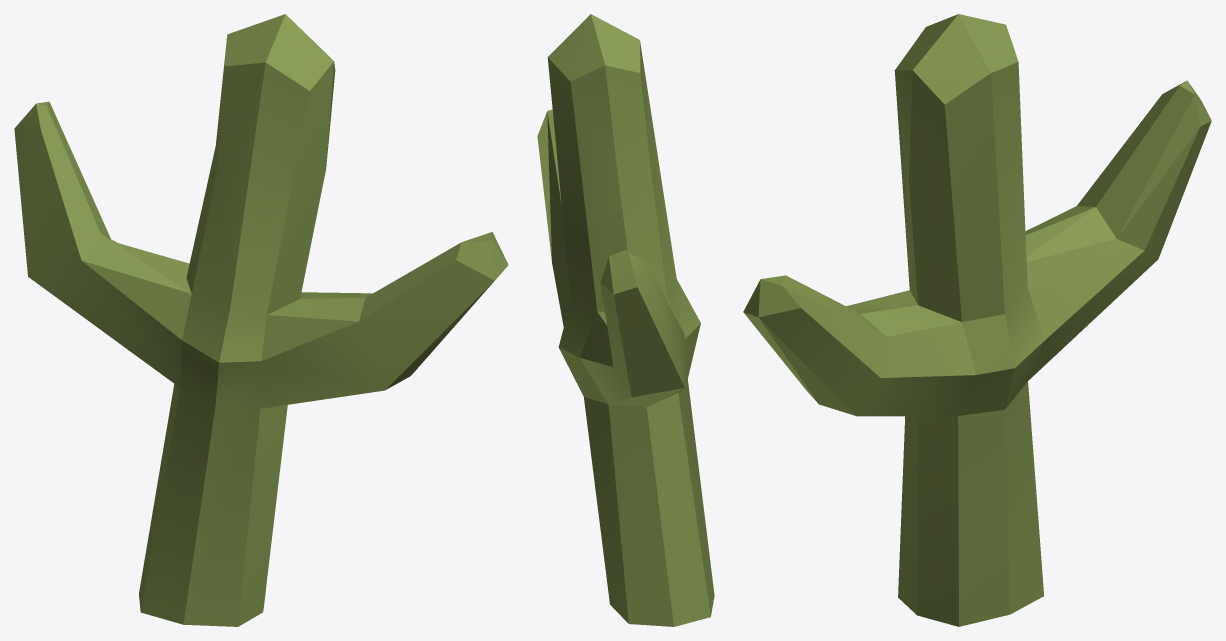
The model's file is cactus3.fbx.
The picture shows the model from 3 angles, left to right: view 1: azimuth 30°, elevation 25°; view 2: azimuth 150°, elevation 25°; view 3: azimuth 270°, elevation 25°; orthographic projection. The views are drawn at different scales.
Visible parts, largest first — view 1: cactus3:Mesh; view 2: cactus3:Mesh; view 3: cactus3:Mesh.
Part boxes in pixels (box(x1,y1,x2,y2)): cactus3:Mesh: box(14, 14, 508, 626); cactus3:Mesh: box(537, 14, 714, 626); cactus3:Mesh: box(743, 14, 1211, 626).
Size of the model in its own units: 28.4 by 50.66 by 34.51.
1 material, 1 textured.
